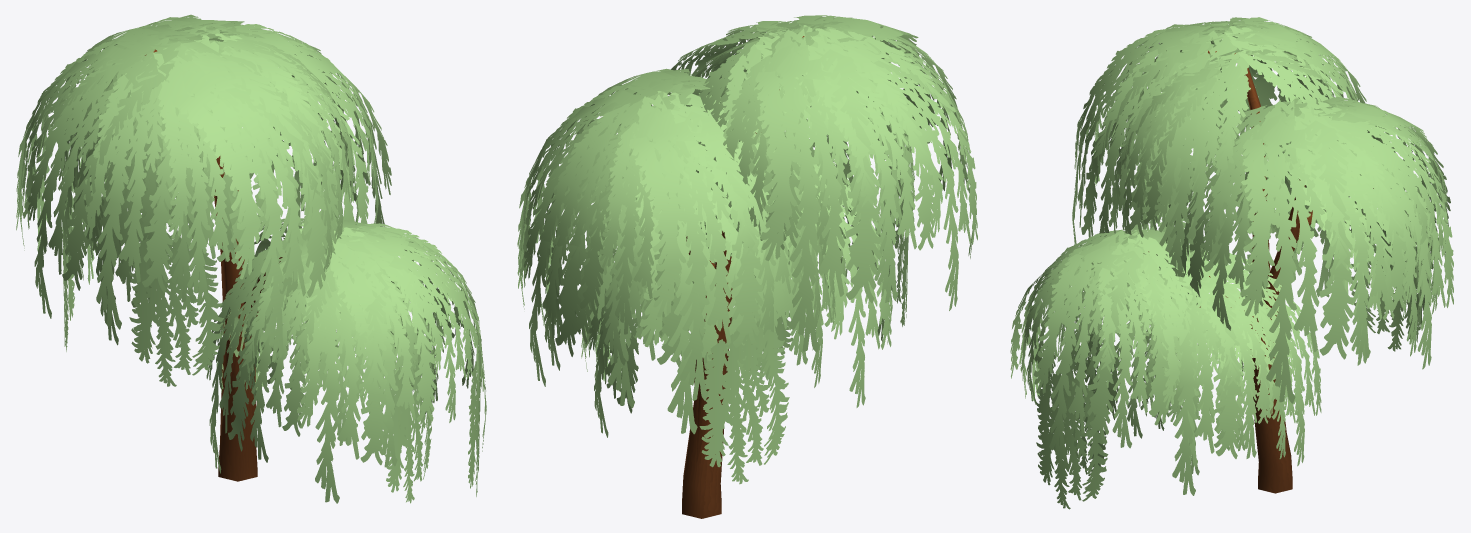
Rendered from STWillow3.glb.
The picture shows the model from 3 angles, left to right: view 1: azimuth 30°, elevation 25°; view 2: azimuth 150°, elevation 25°; view 3: azimuth 270°, elevation 25°; orthographic projection. The views are drawn at different scales.
Parts seen in each view (by area): view 1: WillowTree3; view 2: WillowTree3; view 3: WillowTree3.
Boxes of the visible parts, <box> form: WillowTree3: <box>16,14,486,503</box>; WillowTree3: <box>517,15,977,518</box>; WillowTree3: <box>1010,17,1453,509</box>.
Size of the model in its own units: 14.1 by 16.96 by 16.41.
2 materials, 2 textured.
